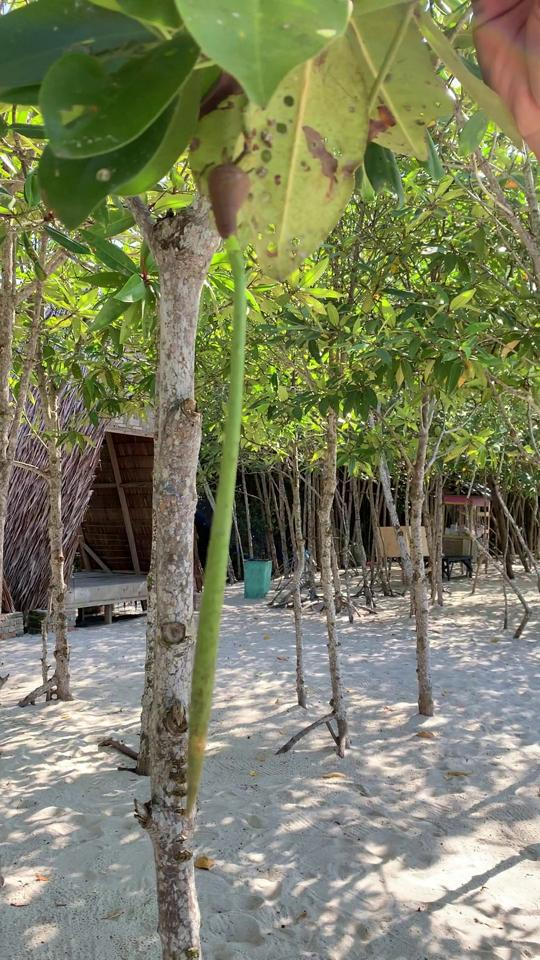setengah matang: (176, 141, 265, 837)
